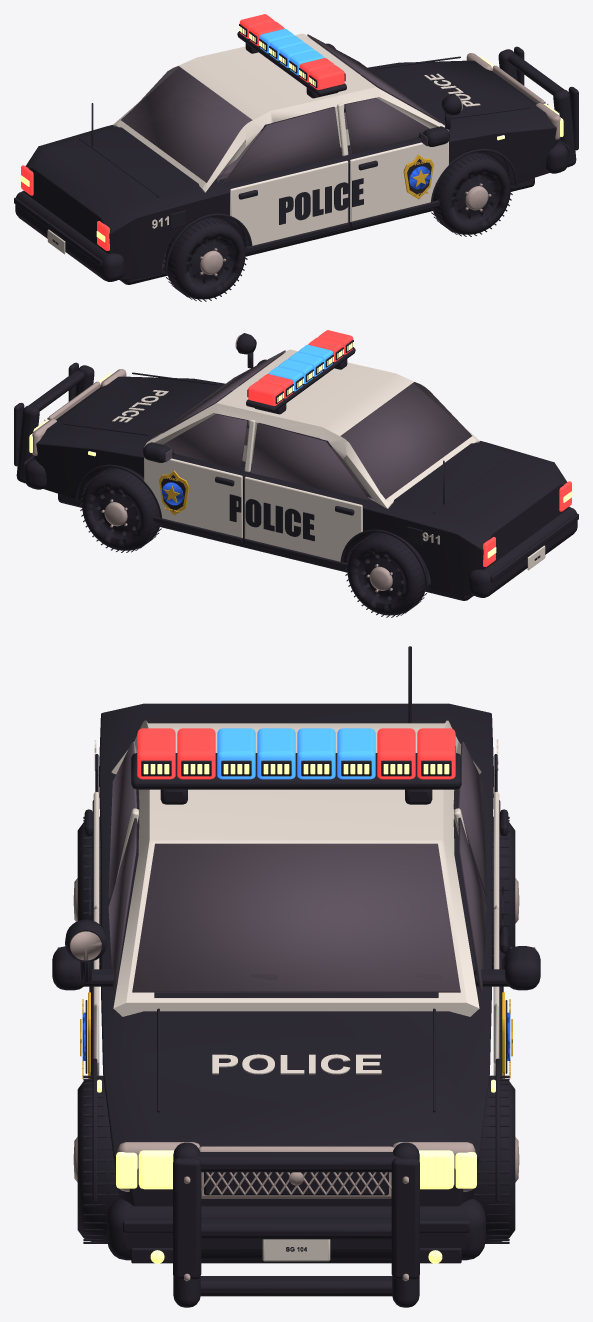
The model's file is veh.police-sedan.glb.
3 views of the same model, one above another, from view 1: azimuth 30°, elevation 25°; view 2: azimuth 150°, elevation 25°; view 3: azimuth 270°, elevation 25° (orthographic). The views are drawn at different scales.
Parts seen in each view (by area): view 1: body, doorL, wheelRL, wheelFL, sirenL, sirenR, lightsBrake; view 2: body, doorR, wheelRR, wheelFR, sirenL, sirenR, lightsBrake; view 3: body, sirenL, sirenR, doorR, doorL, wheelFR, wheelFL, lightsFront, wheelRR, wheelRL.
Boxes of the visible parts, left/top/right/bottom form: body: left=14, top=24, right=578, bottom=284; doorL: left=345, top=98, right=449, bottom=227; wheelRL: left=162, top=216, right=247, bottom=301; wheelFL: left=430, top=151, right=512, bottom=236; sirenL: left=239, top=14, right=344, bottom=89; sirenR: left=259, top=28, right=324, bottom=75; lightsBrake: left=20, top=165, right=109, bottom=250; body: left=14, top=333, right=578, bottom=600; doorR: left=143, top=414, right=247, bottom=543; wheelRR: left=345, top=532, right=430, bottom=617; wheelFR: left=80, top=466, right=162, bottom=552; sirenL: left=248, top=330, right=353, bottom=405; sirenR: left=268, top=344, right=333, bottom=391; lightsBrake: left=483, top=481, right=572, bottom=566; body: left=65, top=646, right=508, bottom=1307; sirenL: left=137, top=728, right=455, bottom=779; sirenR: left=217, top=728, right=375, bottom=779; doorR: left=458, top=817, right=540, bottom=1078; doorL: left=52, top=818, right=136, bottom=1078; wheelFR: left=473, top=1075, right=519, bottom=1243; wheelFL: left=73, top=1075, right=119, bottom=1243; lightsFront: left=97, top=1079, right=495, bottom=1263; wheelRR: left=492, top=816, right=519, bottom=969; wheelRL: left=73, top=816, right=100, bottom=969.
Bounding box in the file's own units: 5.44 × 1.93 × 2.32.
